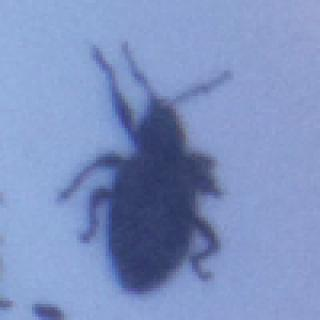bvw: (55, 40, 236, 296)
